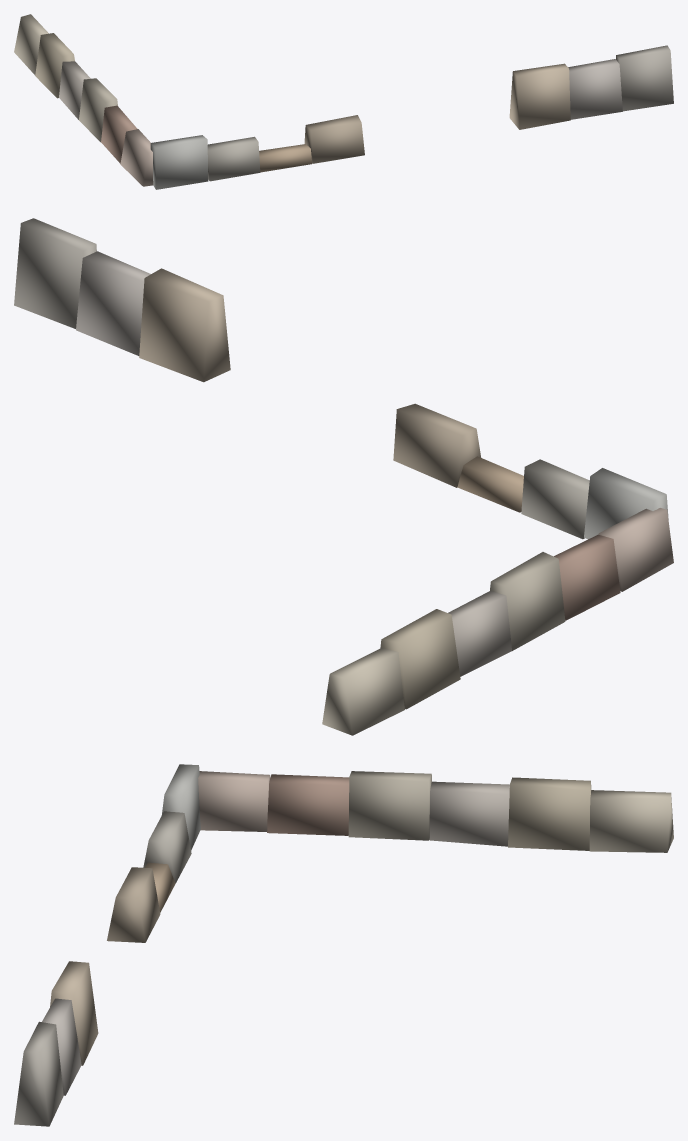
Rendered from farm_-27_-20_far.glb.
3 views of the same model, one above another, from view 1: azimuth 30°, elevation 25°; view 2: azimuth 150°, elevation 25°; view 3: azimuth 270°, elevation 25° (orthographic). The views are drawn at different scales.
Visible parts, largest first — view 1: geometry_0; view 2: geometry_0; view 3: geometry_0.
Boxes of the visible parts, x1,y1,x2,y2 form: geometry_0: (14,14,673,189); geometry_0: (14,218,673,735); geometry_0: (14,764,673,1126).
Size of the model in its own units: 14.83 by 1.97 by 12.45.
